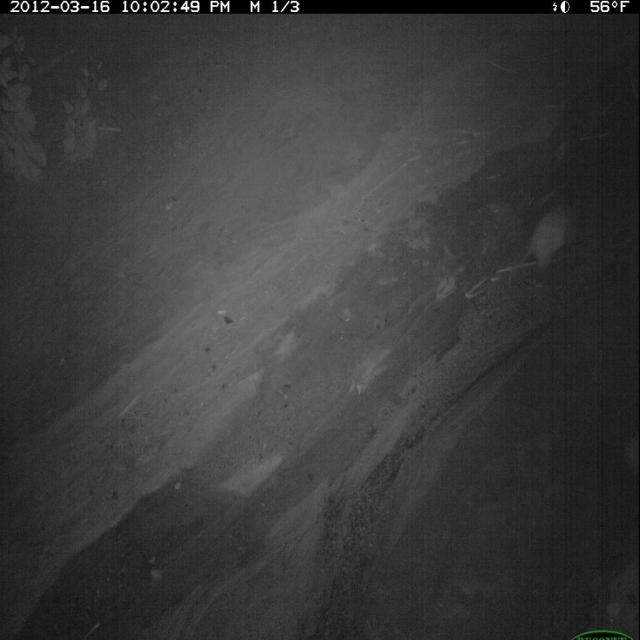opossum: (509, 195, 584, 283)
